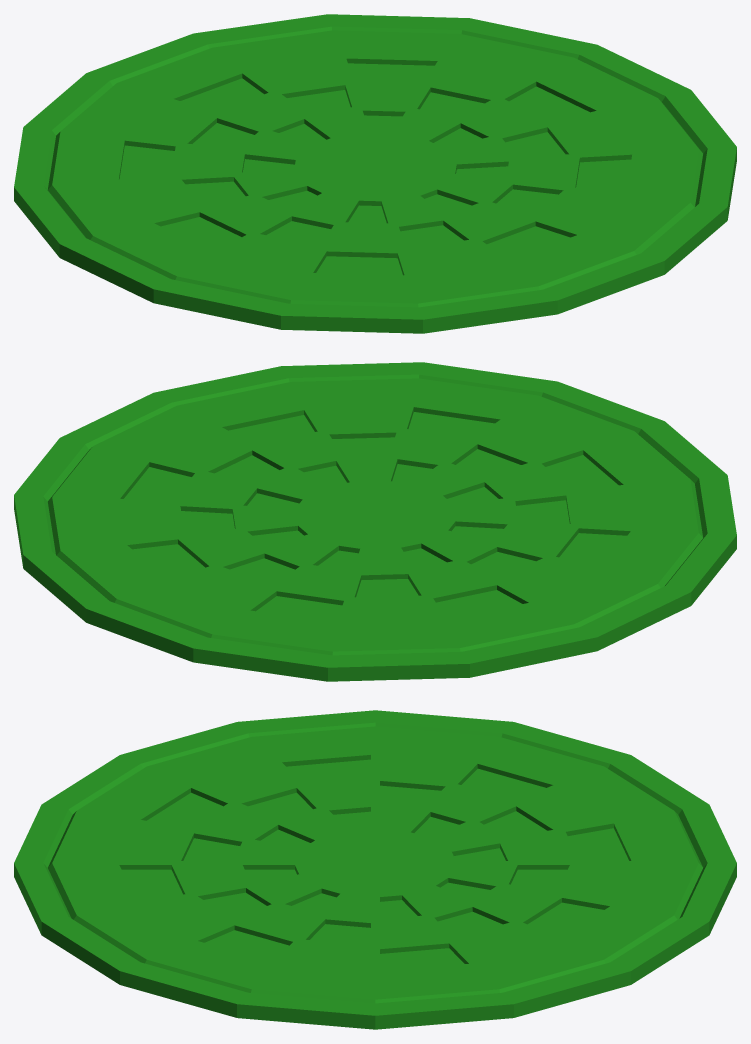
File: SewerCover.fbx
3 renders of one model, top to bottom at view 1: azimuth 30°, elevation 25°; view 2: azimuth 150°, elevation 25°; view 3: azimuth 270°, elevation 25°, orthographic.
Visible parts, largest first — view 1: Sewercover; view 2: Sewercover; view 3: Sewercover.
Boxes of the visible parts, left/top/right/bottom form: Sewercover: left=14, top=14, right=736, bottom=333; Sewercover: left=14, top=362, right=736, bottom=681; Sewercover: left=14, top=710, right=736, bottom=1029.
Bounding box in the file's own units: 217 × 4.61 × 217.
